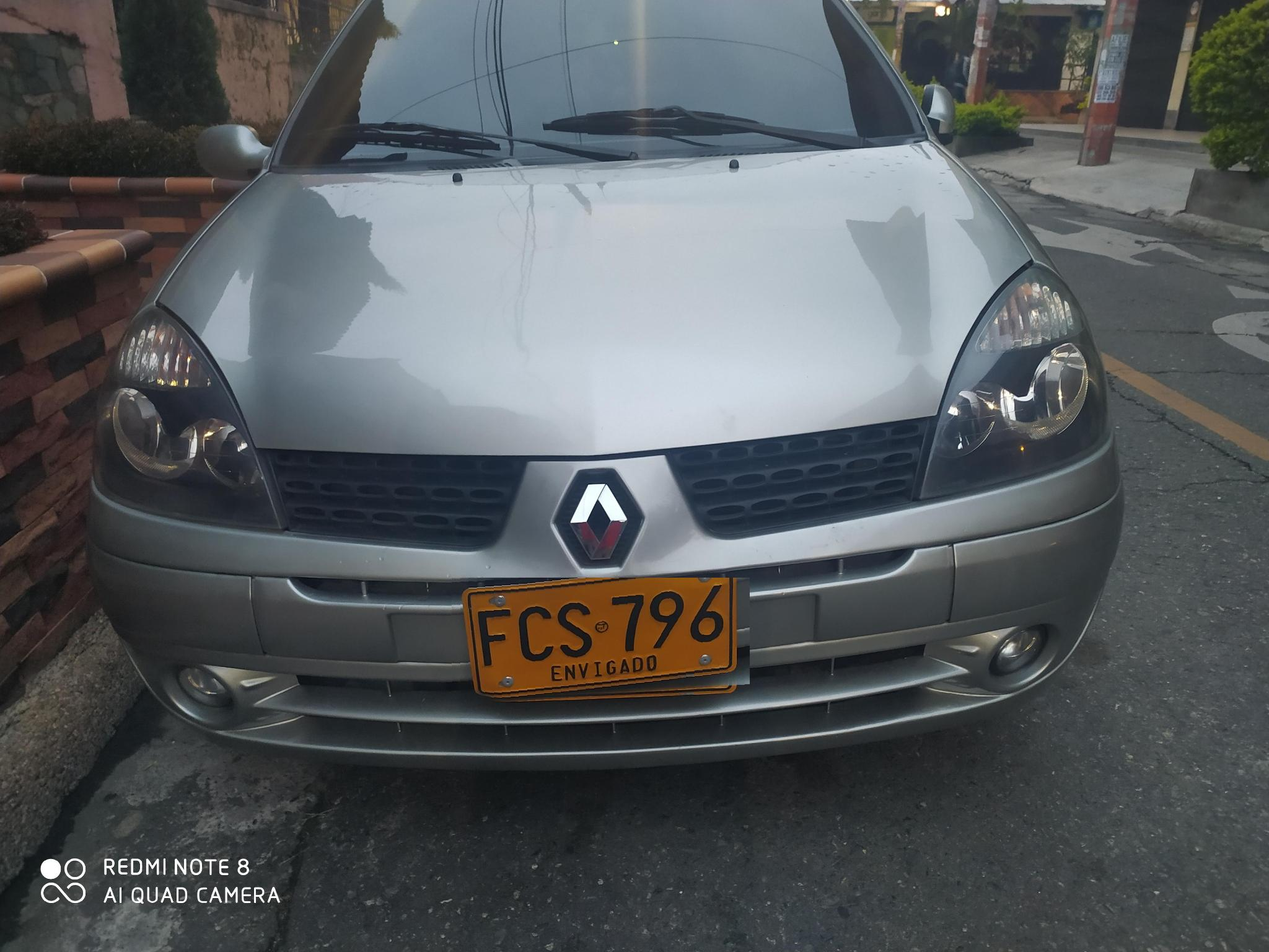placa: (447, 578, 750, 707)
